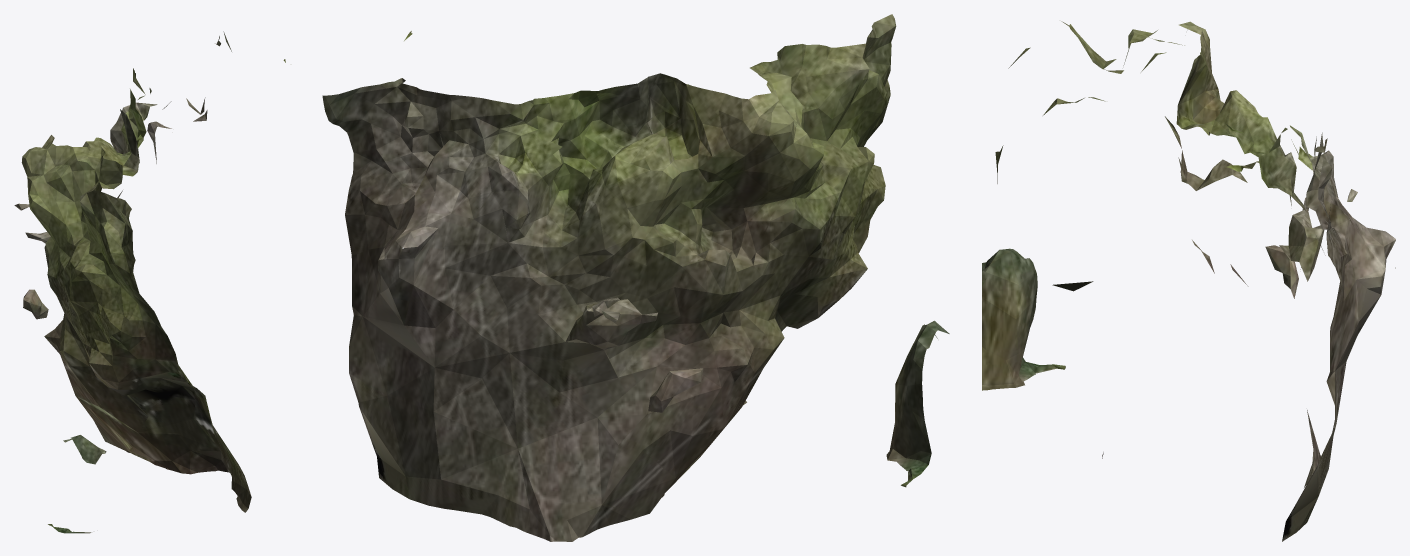
The picture shows the model from 3 angles, left to right: view 1: azimuth 30°, elevation 25°; view 2: azimuth 150°, elevation 25°; view 3: azimuth 270°, elevation 25°; orthographic projection. The views are drawn at different scales.
Size of the model in its own units: 11.8 by 11.8 by 11.8.
Materials: 4 (4 with a texture image).
